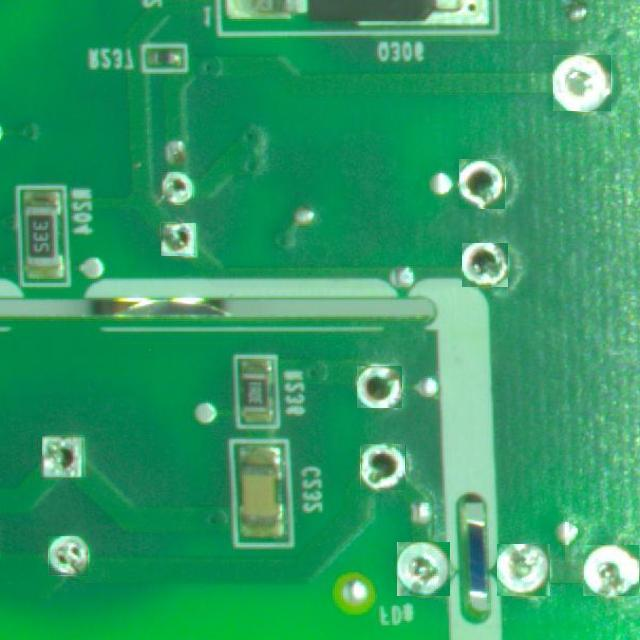oppostie_direction: (552, 55, 611, 111), (398, 542, 449, 596), (584, 545, 638, 596), (498, 545, 549, 594), (460, 159, 504, 208), (356, 365, 402, 408), (361, 444, 404, 490), (462, 243, 507, 286), (42, 436, 83, 478), (49, 537, 88, 575), (161, 224, 195, 255), (162, 173, 193, 204), (55, 537, 63, 545)
